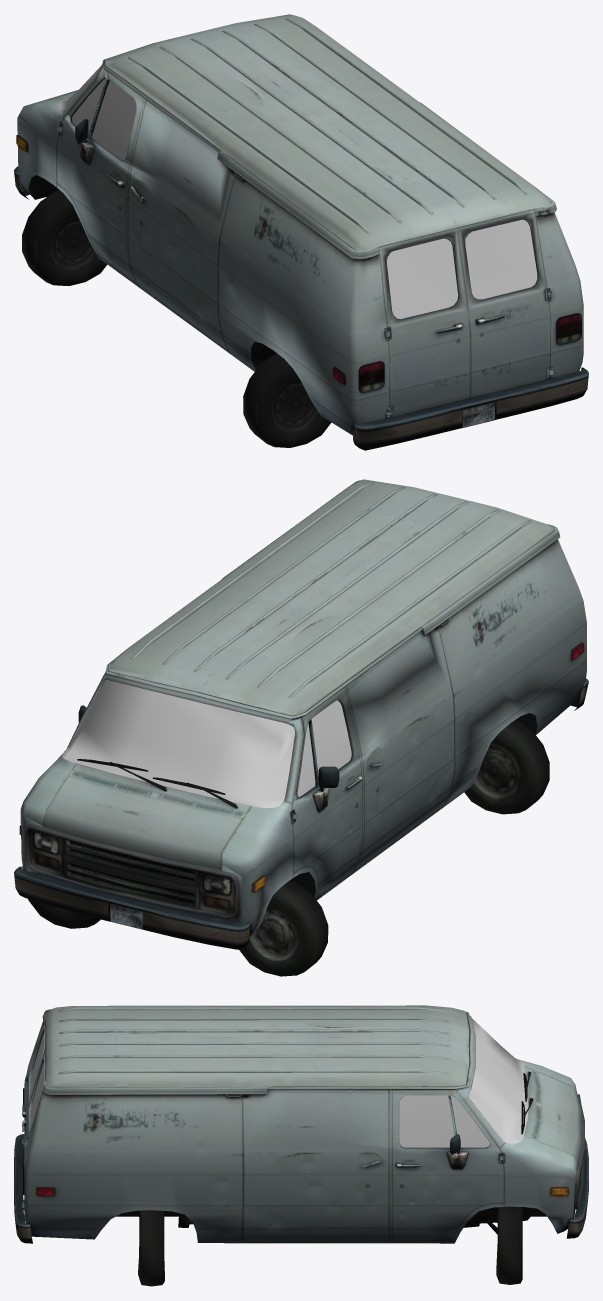
The model's file is van_car.fbx.
The picture shows the model from 3 angles, top to bottom: view 1: azimuth 30°, elevation 25°; view 2: azimuth 150°, elevation 25°; view 3: azimuth 270°, elevation 25°; orthographic projection. The views are drawn at different scales.
Visible parts, largest first — view 1: (null).004, (null).020, (null).000, (null).016, (null).081, (null).080, (null).085, (null).074, (null).071, (null).072, (null).067, (null).073 (+5 smaller); view 2: (null).004, (null).086, (null).030, (null).016, (null).000, (null).085, (null).074, (null).071, (null).067, (null).072, (null).073, (null).069 (+2 smaller); view 3: (null).004, (null).086, (null).082, (null).003, (null).025, (null).072, (null).071, (null).074, (null).067, (null).020, (null).069, (null).083 (+3 smaller).
Part boxes in pixels (x1,y1,x2,y2): (null).004: (17, 14, 583, 435); (null).020: (353, 367, 588, 450); (null).000: (243, 353, 331, 447); (null).016: (22, 190, 107, 285); (null).081: (386, 238, 458, 318); (null).080: (465, 219, 537, 299); (null).085: (92, 81, 136, 160); (null).074: (128, 57, 370, 233); (null).071: (285, 18, 528, 195); (null).072: (190, 38, 433, 214); (null).067: (222, 30, 465, 207); (null).073: (159, 46, 401, 223); (null).004: (20, 479, 586, 936); (null).086: (63, 679, 294, 808); (null).030: (14, 866, 249, 949); (null).016: (239, 880, 328, 976); (null).000: (464, 719, 549, 814); (null).085: (311, 700, 351, 775); (null).074: (288, 520, 531, 698); (null).071: (131, 481, 373, 659); (null).067: (194, 494, 436, 672); (null).072: (225, 501, 468, 679); (null).073: (257, 510, 499, 687); (null).069: (162, 487, 405, 664); (null).004: (24, 1005, 584, 1243); (null).086: (468, 1018, 528, 1143); (null).082: (399, 1095, 454, 1147); (null).003: (496, 1206, 522, 1284); (null).025: (138, 1210, 164, 1286); (null).072: (59, 1029, 449, 1034); (null).071: (59, 1070, 449, 1074); (null).074: (59, 1007, 449, 1011); (null).067: (59, 1042, 449, 1046); (null).020: (14, 1134, 32, 1243); (null).069: (59, 1055, 449, 1059); (null).083: (450, 1095, 489, 1147).
Size of the model in its own units: 209 by 169 by 434.
